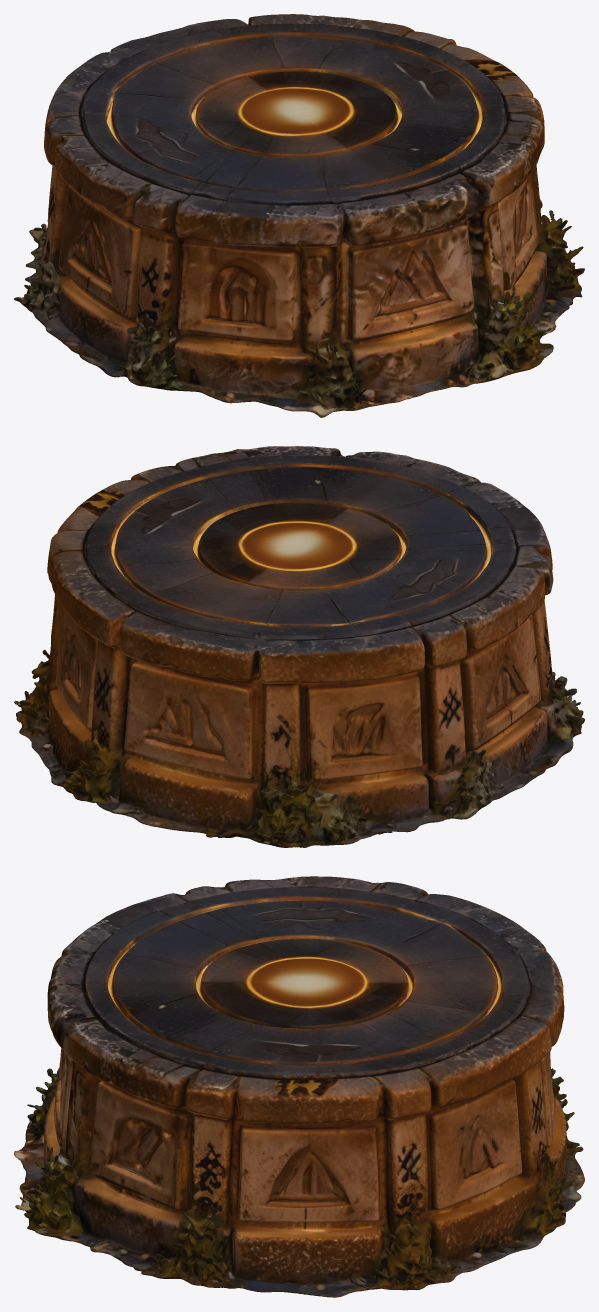
Rendered from pedestal.glb.
3 views of the same model, one above another, from view 1: azimuth 30°, elevation 25°; view 2: azimuth 150°, elevation 25°; view 3: azimuth 270°, elevation 25° (orthographic). The views are drawn at different scales.
Parts seen in each view (by area): view 1: tripo_node_20511500-87cb-4273-a215-8435b58fab2e; view 2: tripo_node_20511500-87cb-4273-a215-8435b58fab2e; view 3: tripo_node_20511500-87cb-4273-a215-8435b58fab2e.
Boxes of the visible parts, x1,y1,x2,y2 form: tripo_node_20511500-87cb-4273-a215-8435b58fab2e: (14,14,584,417); tripo_node_20511500-87cb-4273-a215-8435b58fab2e: (14,446,584,847); tripo_node_20511500-87cb-4273-a215-8435b58fab2e: (14,876,584,1297).
Bounding box in the file's own units: 1 × 0.3826 × 0.998.
1 material, 1 textured.
